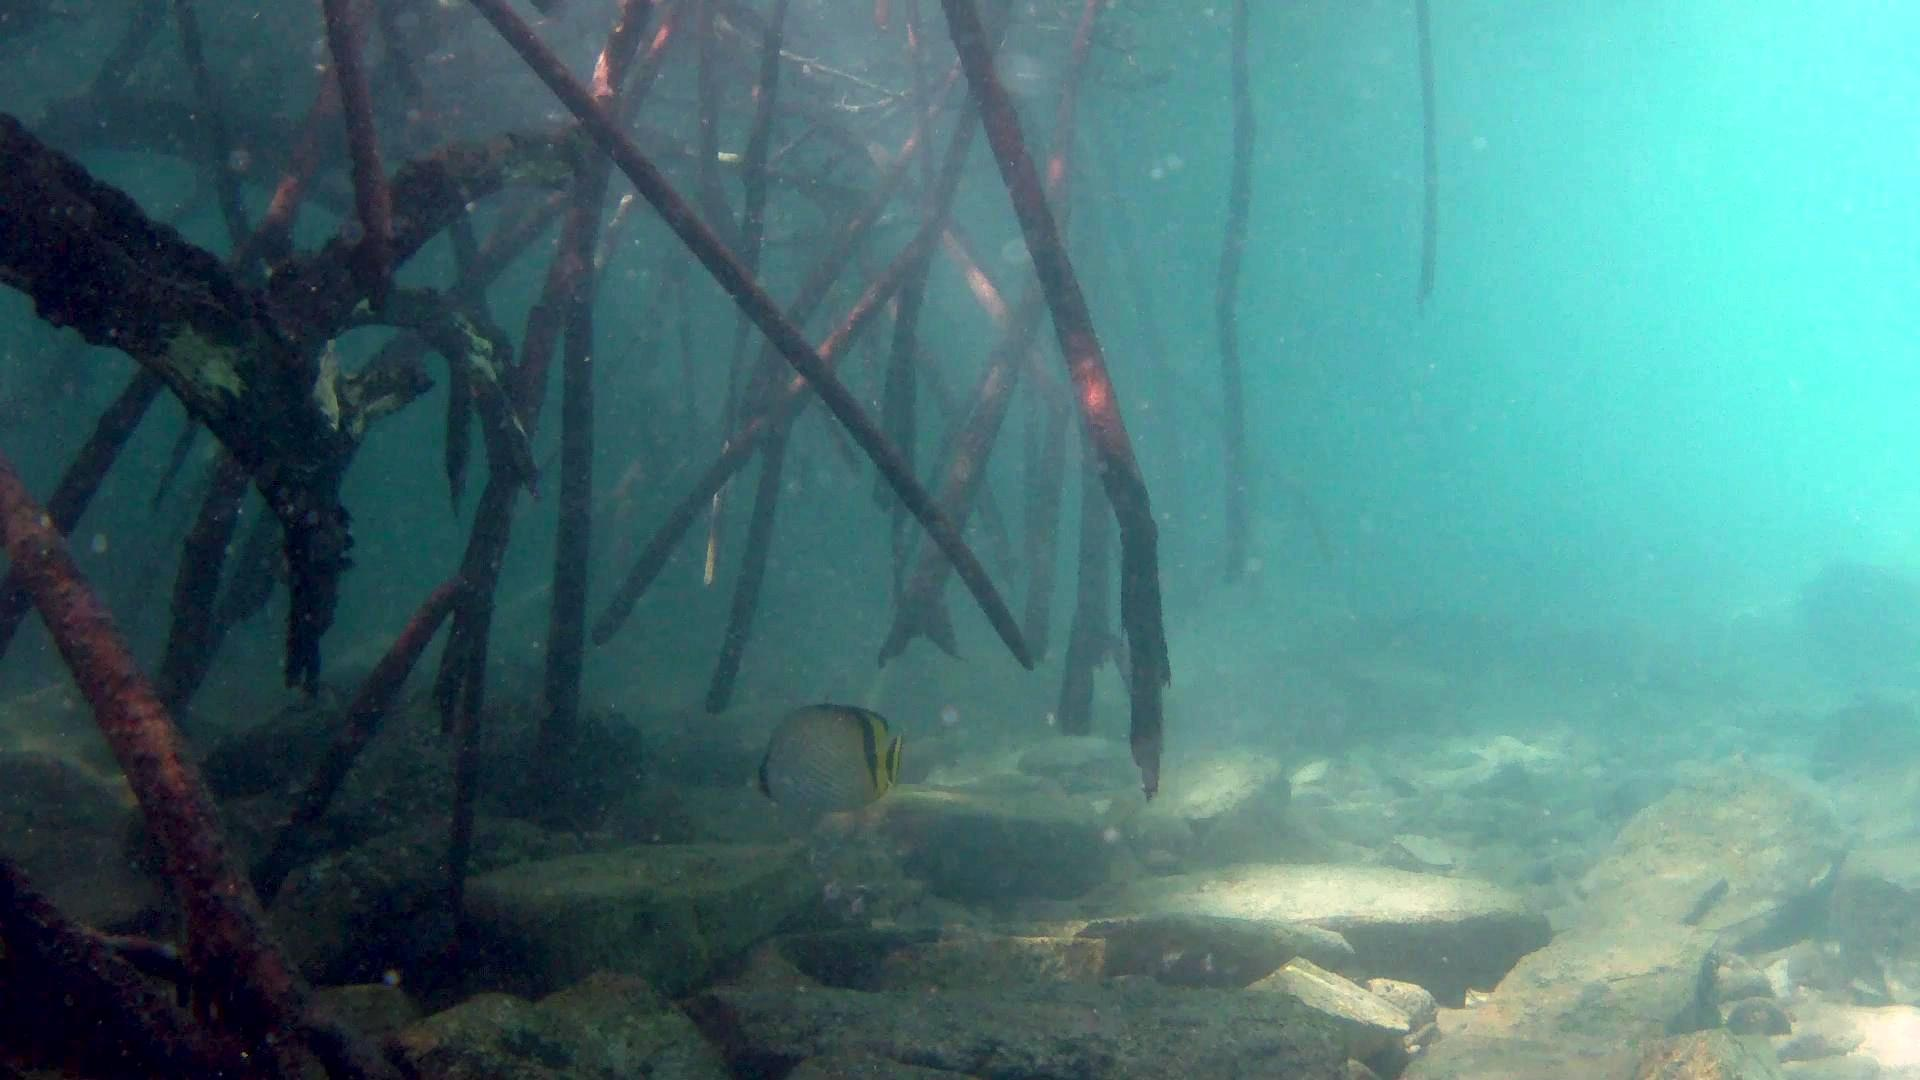chaetodon vagabundus: (740, 698, 909, 817)
